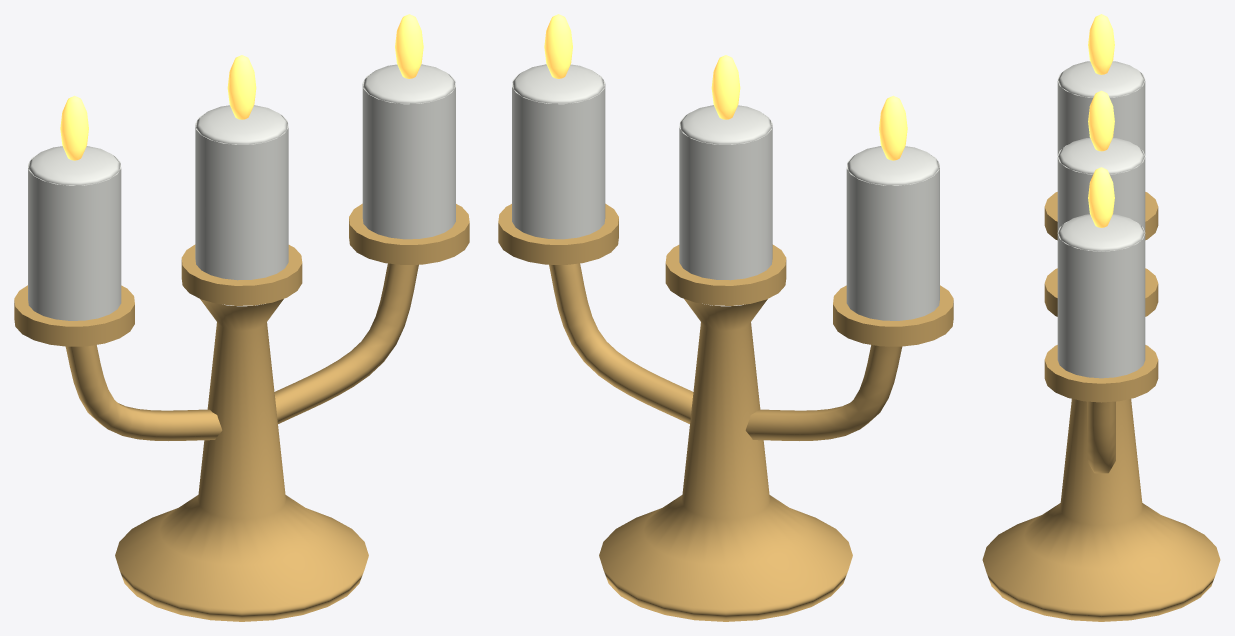
The model's file is christmas-storybook-brass-candelabra-e7a75313__18734.glb.
The picture shows the model from 3 angles, left to right: view 1: azimuth 30°, elevation 25°; view 2: azimuth 150°, elevation 25°; view 3: azimuth 270°, elevation 25°; orthographic projection. The views are drawn at different scales.
Visible parts, largest first — view 1: brass, cream, light; view 2: brass, cream, light; view 3: brass, cream, light.
Part boxes in pixels (bbox=[...]): brass: bbox=[14, 203, 469, 621]; cream: bbox=[28, 64, 455, 320]; light: bbox=[60, 14, 423, 160]; brass: bbox=[498, 203, 953, 621]; cream: bbox=[512, 64, 939, 320]; light: bbox=[544, 14, 907, 160]; brass: bbox=[982, 192, 1220, 621]; cream: bbox=[1057, 61, 1145, 378]; light: bbox=[1088, 14, 1114, 227].
Bounding box in the file's own units: 0.92 × 1.03 × 0.4601.
